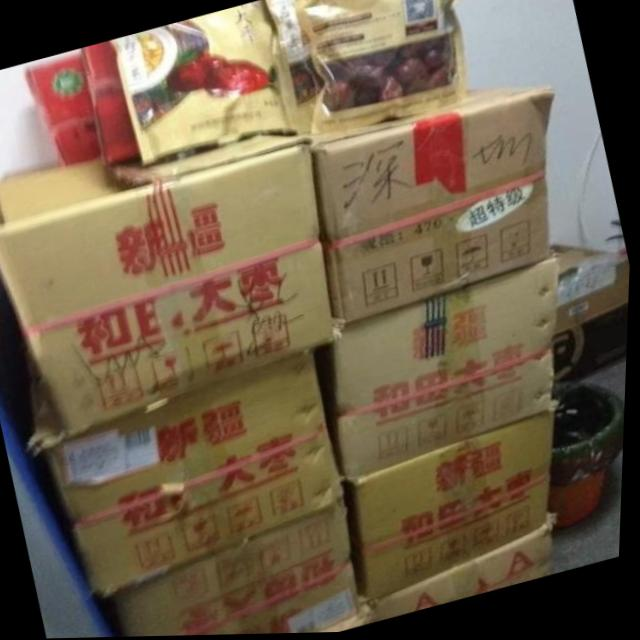box: (0, 134, 340, 455), (48, 351, 349, 595), (295, 88, 555, 324), (336, 256, 564, 482), (344, 413, 559, 602), (114, 497, 366, 637), (377, 513, 555, 621)
